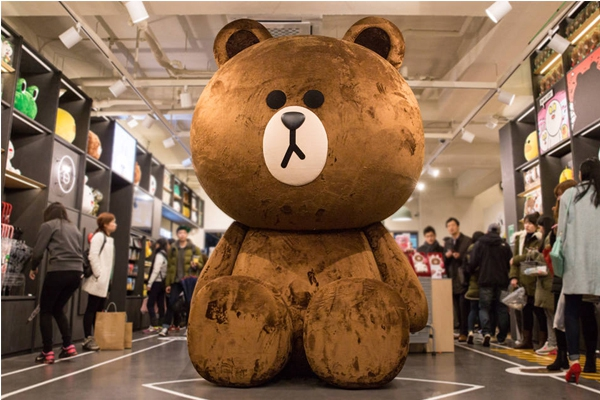line_brown: (179, 17, 432, 227)
